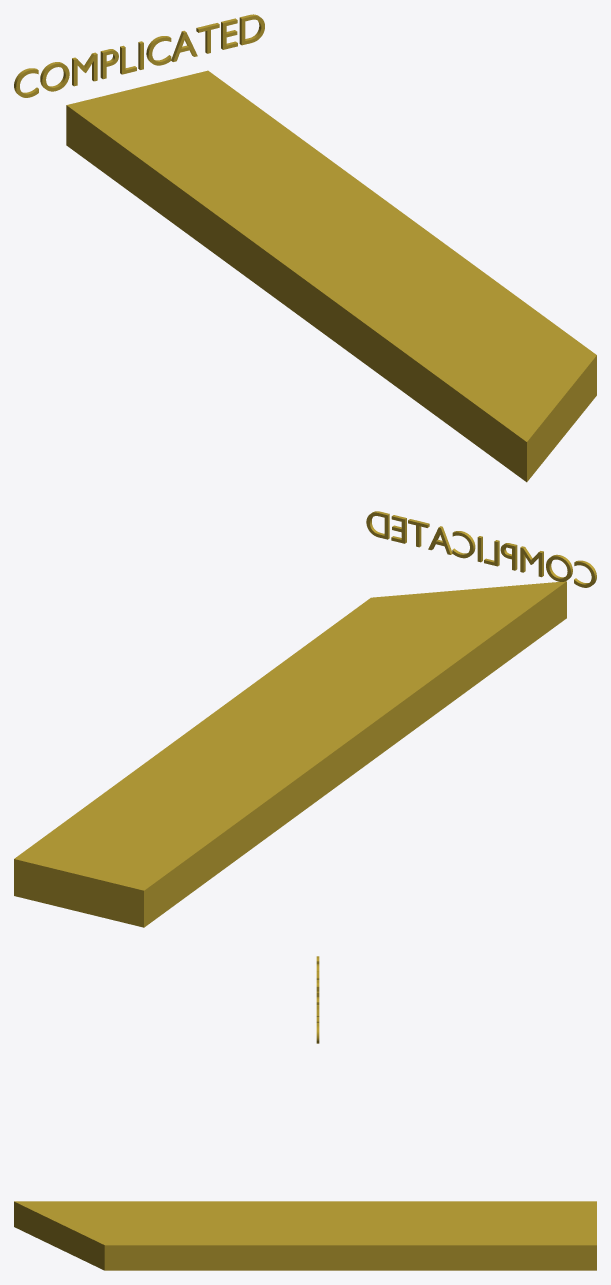
File: rot_complicated.gltf
The picture shows the model from 3 angles, top to bottom: view 1: azimuth 30°, elevation 25°; view 2: azimuth 150°, elevation 25°; view 3: azimuth 270°, elevation 25°; orthographic projection. The views are drawn at different scales.
Visible parts, largest first — view 1: rot.complicated; view 2: rot.complicated; view 3: rot.complicated.
Part boxes in pixels (box(x1,y1,x2,y2)): rot.complicated: box(14, 14, 596, 482); rot.complicated: box(14, 511, 596, 927); rot.complicated: box(14, 956, 596, 1270).
Bounding box in the file's own units: 11.12 × 7.72 × 21.45.
